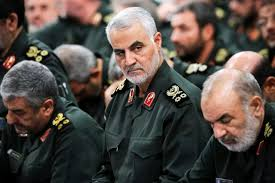middle_eastern_male: (106, 3, 169, 83)
